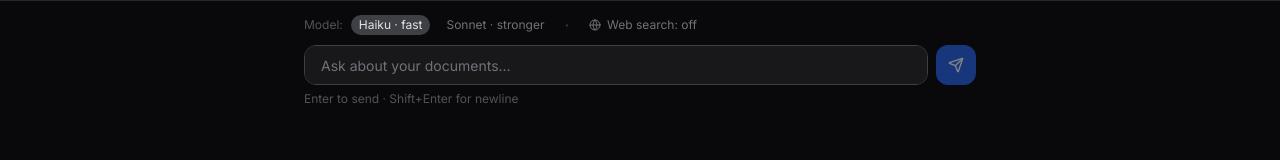
MessageInput › enables send button when text is entered
The width and height of the screenshot is (1280, 160).
In the text box: (616, 65) left=304, top=45, right=928, bottom=85, type "hello"
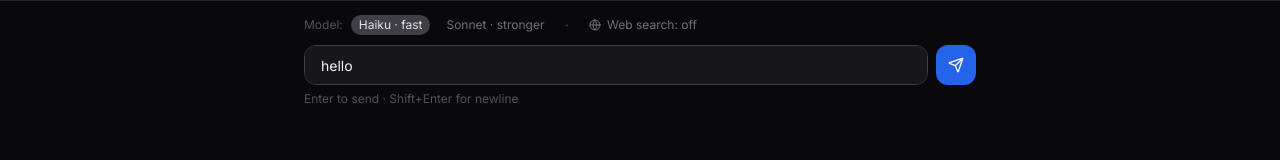
expect the button named "send" is enabled: met, box left=936, top=45, right=976, bottom=85
